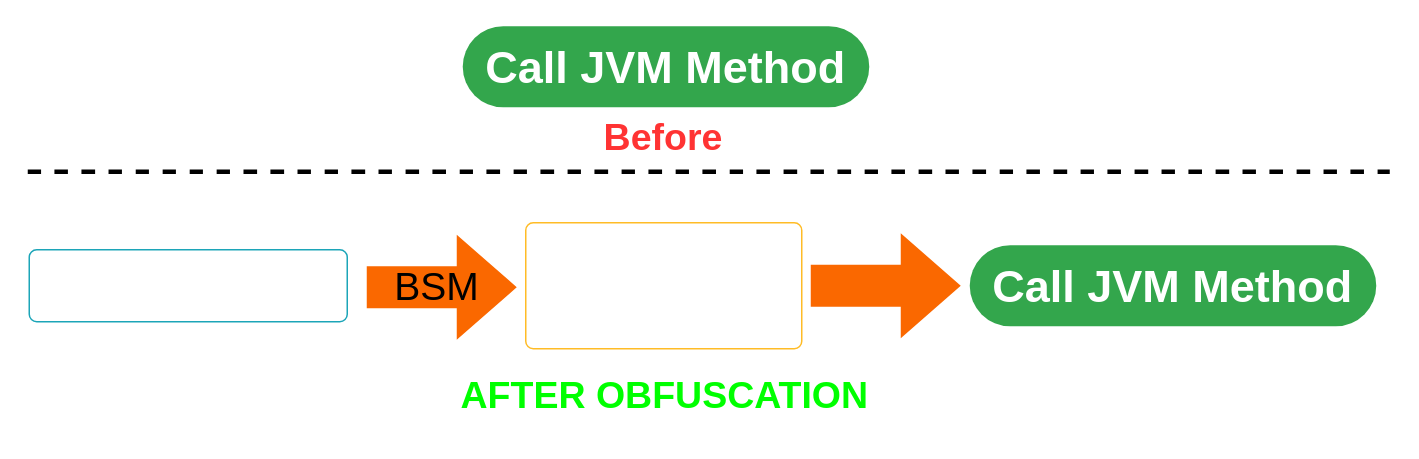
Image size: 1419x459. Some labels were removed from this diagram. Each missing label, with the box of its shape:
InvokeDynamic: (28, 248, 347, 322)
native method: (524, 221, 802, 349)
